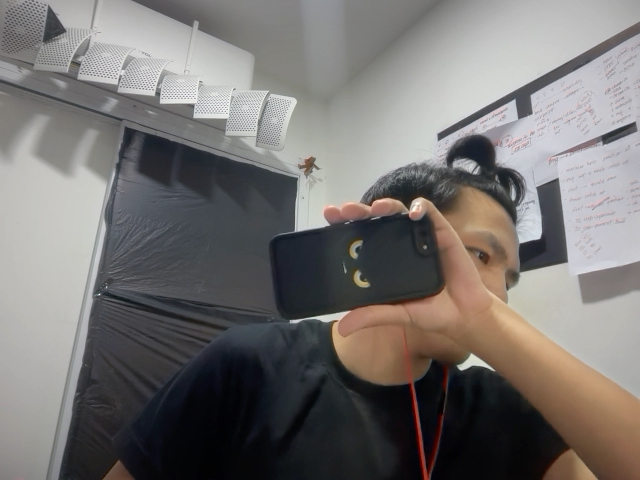phone: (248, 210, 447, 319)
